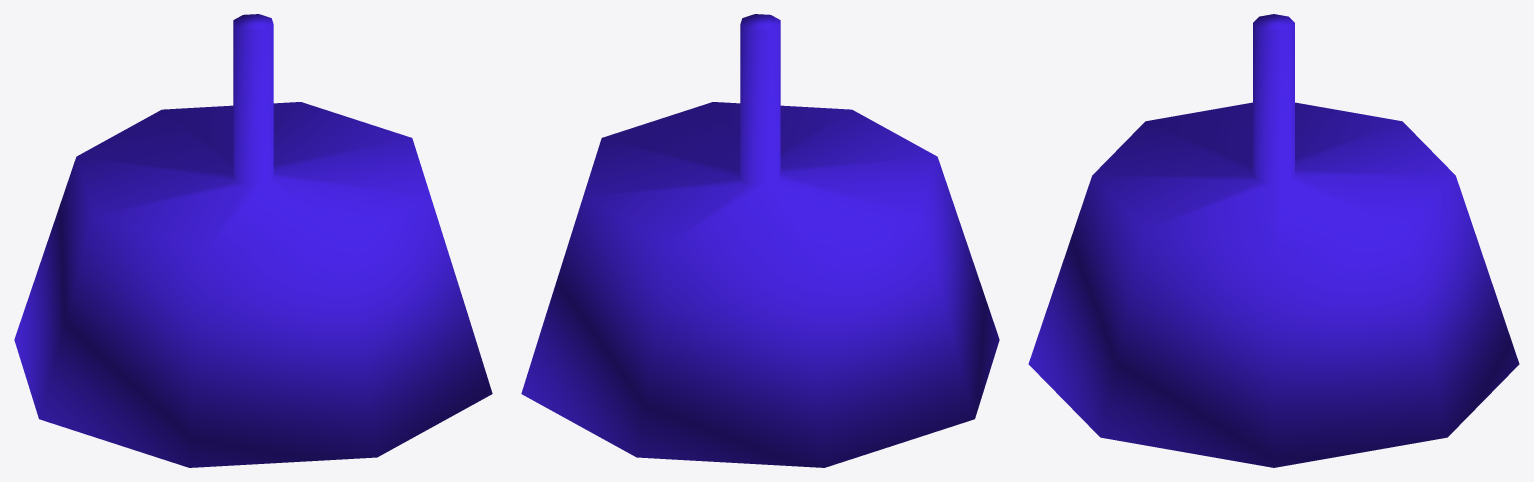
The picture shows the model from 3 angles, left to right: view 1: azimuth 30°, elevation 25°; view 2: azimuth 150°, elevation 25°; view 3: azimuth 270°, elevation 25°; orthographic projection.
Parts seen in each view (by area): view 1: Cylinder.001; view 2: Cylinder.001; view 3: Cylinder.001.
Boxes of the visible parts, left/top/right/bottom form: Cylinder.001: left=14, top=14, right=492, bottom=467; Cylinder.001: left=521, top=14, right=999, bottom=467; Cylinder.001: left=1028, top=14, right=1519, bottom=467.
Size of the model in its own units: 42.21 by 40.05 by 42.21.
